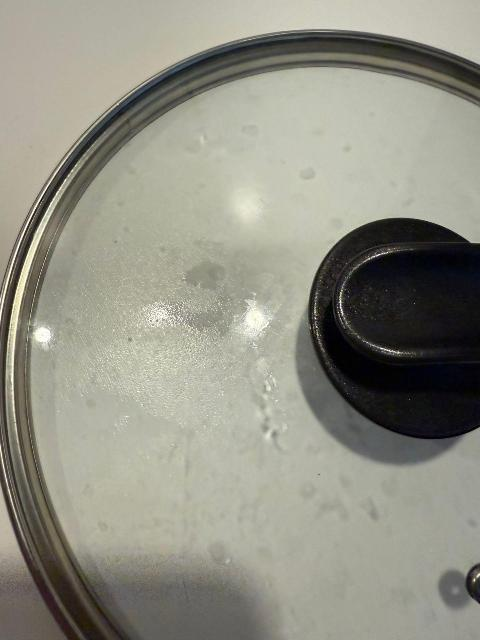Cam: (7, 26, 480, 637)
Plastik: (304, 217, 480, 444)
